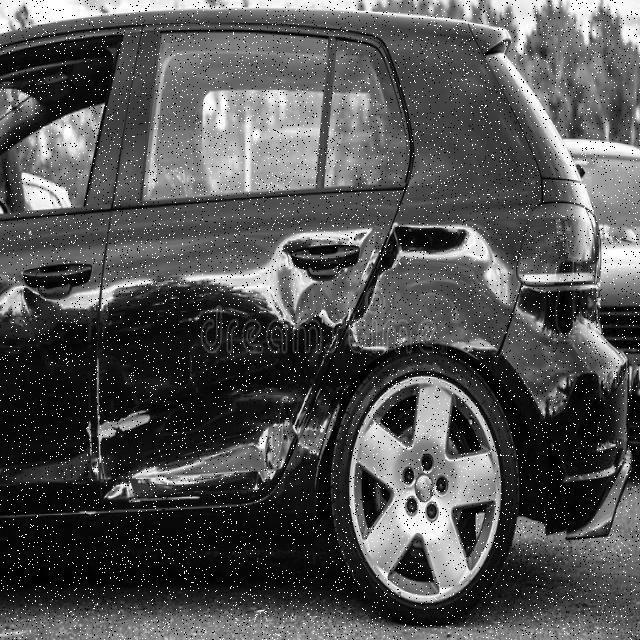doorouter-dent: (103, 208, 364, 498), (1, 220, 100, 501)
quaterpanel-dent: (377, 189, 535, 393)
